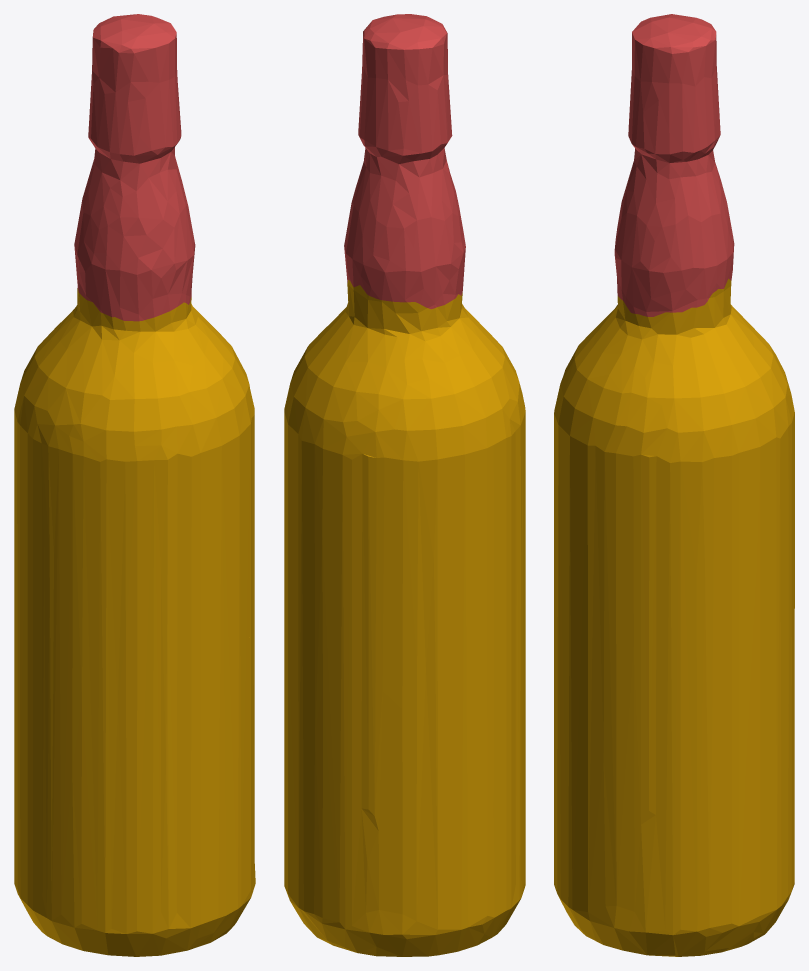
File: mode_1_2pcs.glb
3 renders of one model, left to right at view 1: azimuth 30°, elevation 25°; view 2: azimuth 150°, elevation 25°; view 3: azimuth 270°, elevation 25°, orthographic.
Visible parts, largest first — view 1: piece_0.obj, piece_1.obj; view 2: piece_0.obj, piece_1.obj; view 3: piece_0.obj, piece_1.obj.
Part boxes in pixels (bbox=[...]): piece_0.obj: bbox=[14, 288, 255, 956]; piece_1.obj: bbox=[74, 14, 195, 321]; piece_0.obj: bbox=[284, 280, 525, 956]; piece_1.obj: bbox=[344, 14, 465, 309]; piece_0.obj: bbox=[554, 278, 794, 956]; piece_1.obj: bbox=[614, 14, 734, 316].
Size of the model in its own units: 0.242 by 1 by 0.2421.
